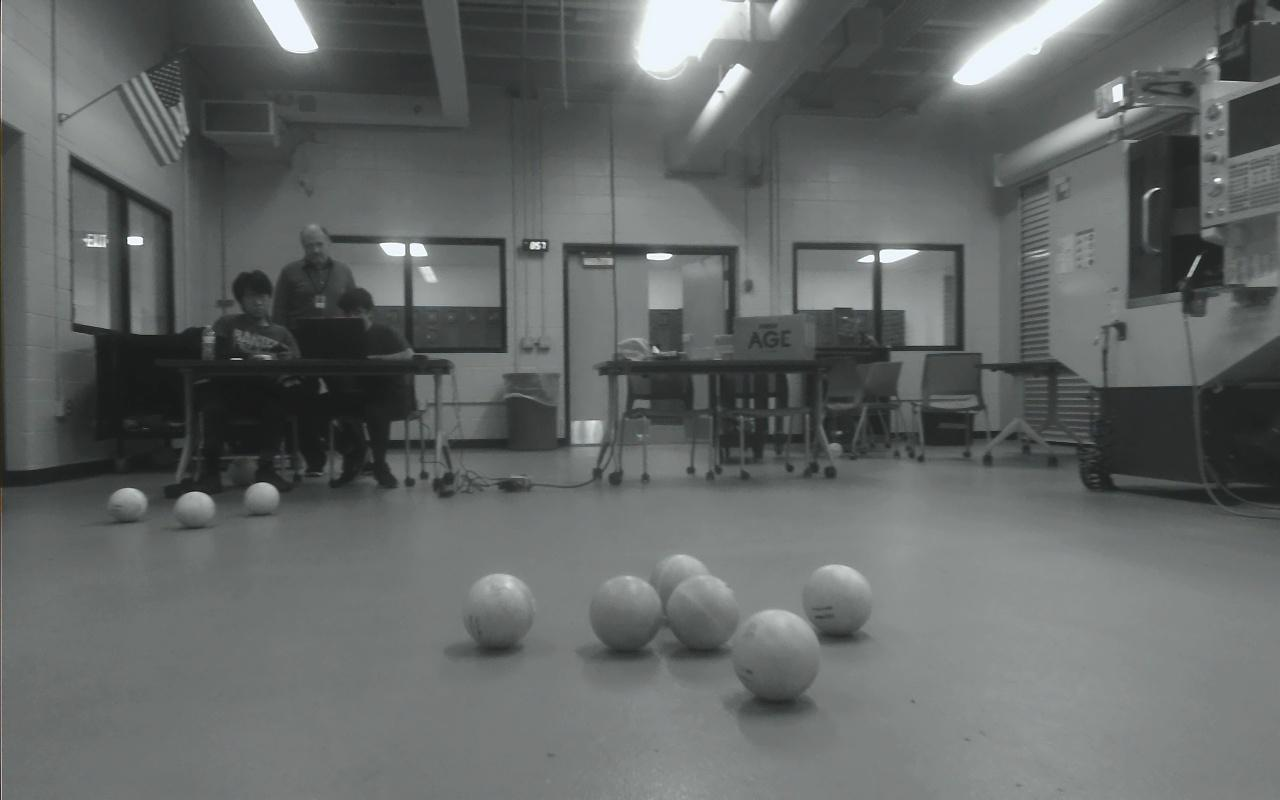Fuel: (731, 609, 822, 701), (461, 573, 535, 649), (666, 574, 739, 651), (590, 575, 662, 651), (801, 562, 873, 636), (649, 553, 710, 619), (174, 491, 216, 529), (109, 487, 147, 522), (243, 482, 280, 516)
